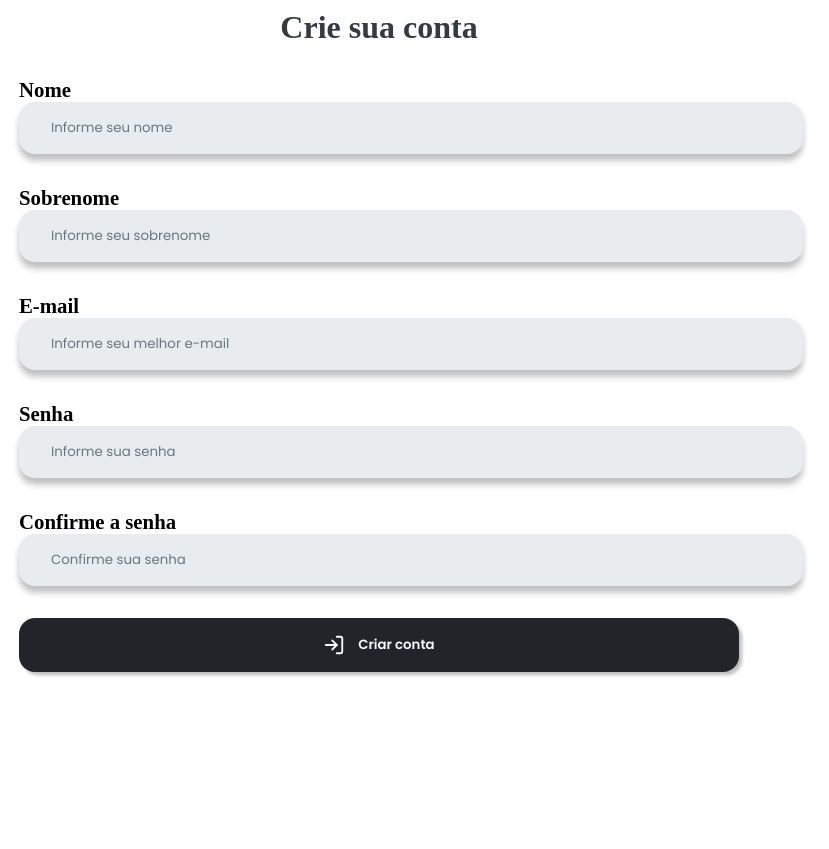
Sign Up › should show error when filling an invalid email
Type "invalid_email" into the field with placeholder "Informe seu melhor e-mail" at {"x": 411, "y": 344}, box left=19, top=318, right=803, bottom=370
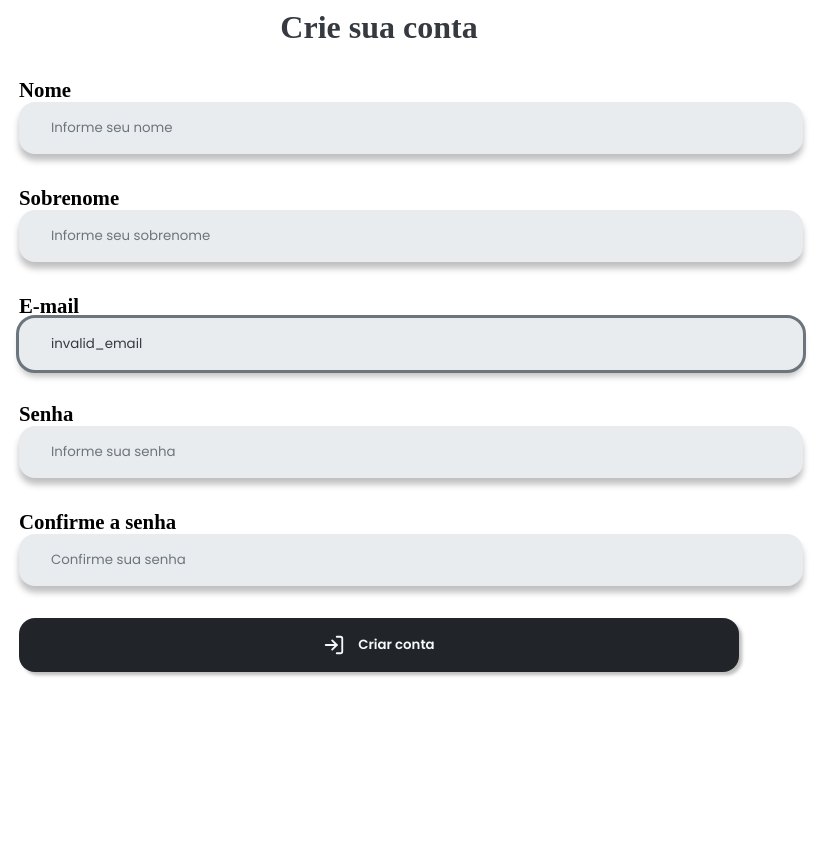
Click the button "Criar conta" at {"x": 379, "y": 645}, box left=19, top=618, right=739, bottom=672
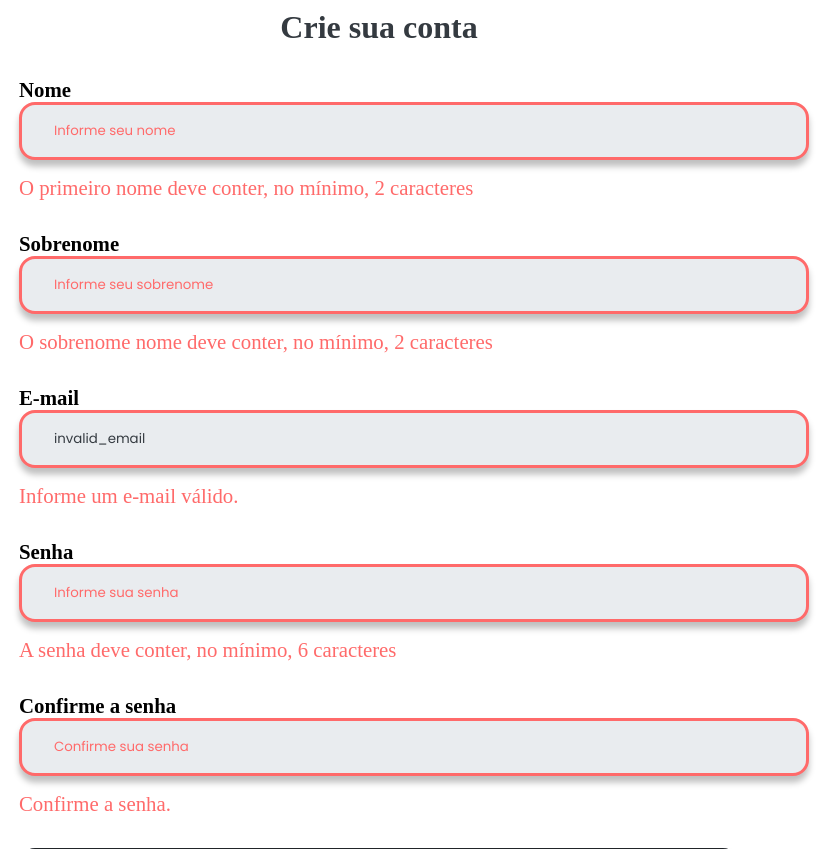
Expected: the text "Informe um e-mail válido." is shown, left=19, top=484, right=238, bottom=507
